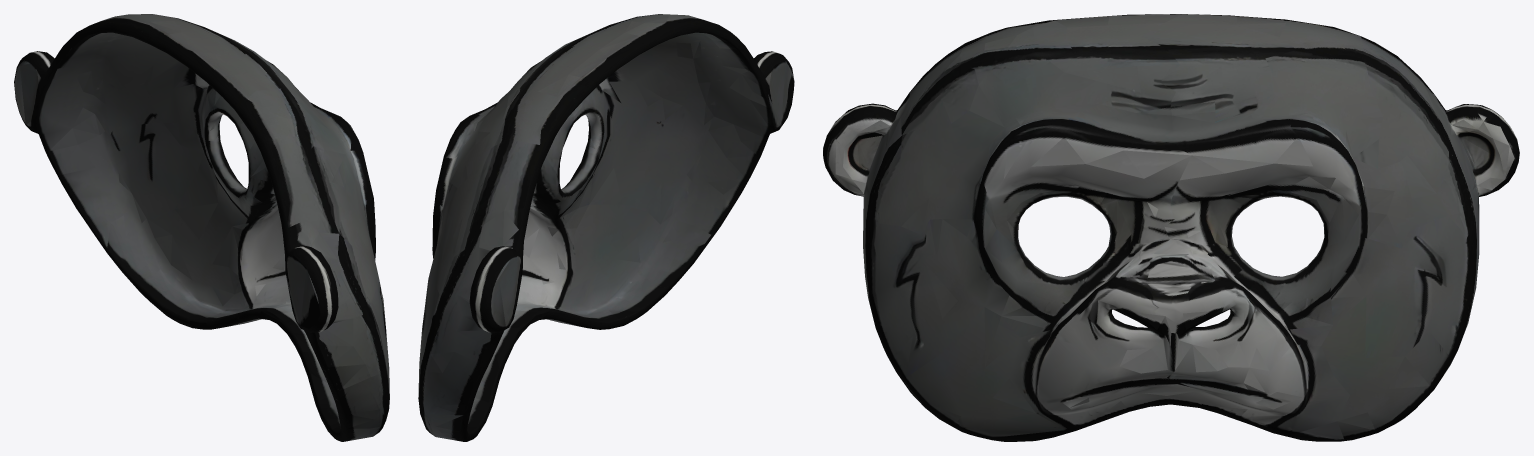
Rendered from Gorille.fbx.
3 views of the same model, side by side, from view 1: azimuth 30°, elevation 25°; view 2: azimuth 150°, elevation 25°; view 3: azimuth 270°, elevation 25° (orthographic). The views are drawn at different scales.
Visible parts, largest first — view 1: tripo_node_0b3d3272; view 2: tripo_node_0b3d3272; view 3: tripo_node_0b3d3272.
Part boxes in pixels (x1,y1,x2,y2): tripo_node_0b3d3272: (14,14,389,441); tripo_node_0b3d3272: (418,14,794,441); tripo_node_0b3d3272: (823,14,1519,441).
Size of the model in its own units: 32.29 by 57.35 by 94.98.
